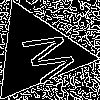W: (12, 27, 78, 89)
